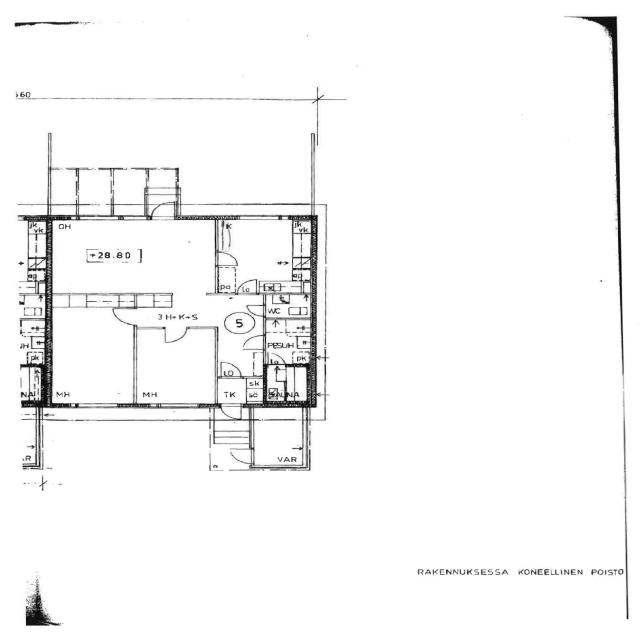door: (109, 306, 139, 326), (148, 200, 176, 220), (227, 446, 256, 465), (215, 360, 243, 379), (212, 249, 240, 267), (162, 326, 188, 345), (218, 402, 244, 421), (240, 334, 266, 352), (235, 277, 260, 295), (265, 352, 287, 367), (244, 303, 266, 316)
window: (69, 401, 122, 412), (147, 401, 203, 411), (235, 214, 282, 222)
zone: (45, 218, 217, 298), (38, 407, 214, 483), (46, 293, 138, 407), (219, 218, 314, 292), (132, 326, 218, 405), (249, 407, 306, 469), (263, 317, 315, 365), (265, 364, 311, 404), (264, 293, 314, 318)
